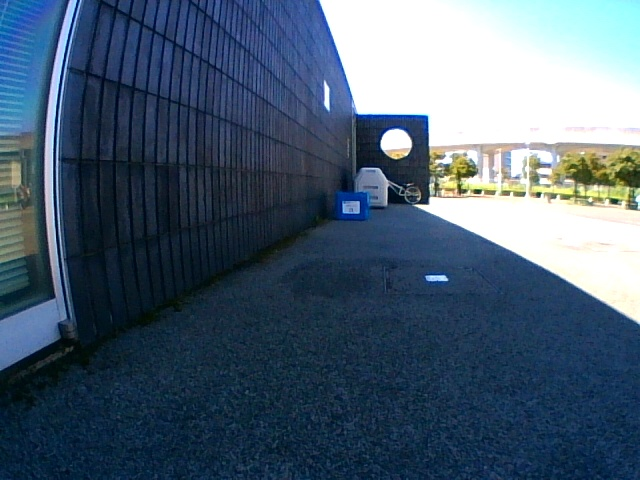blue_box: (337, 192, 368, 220)
tag: (342, 201, 359, 213)
